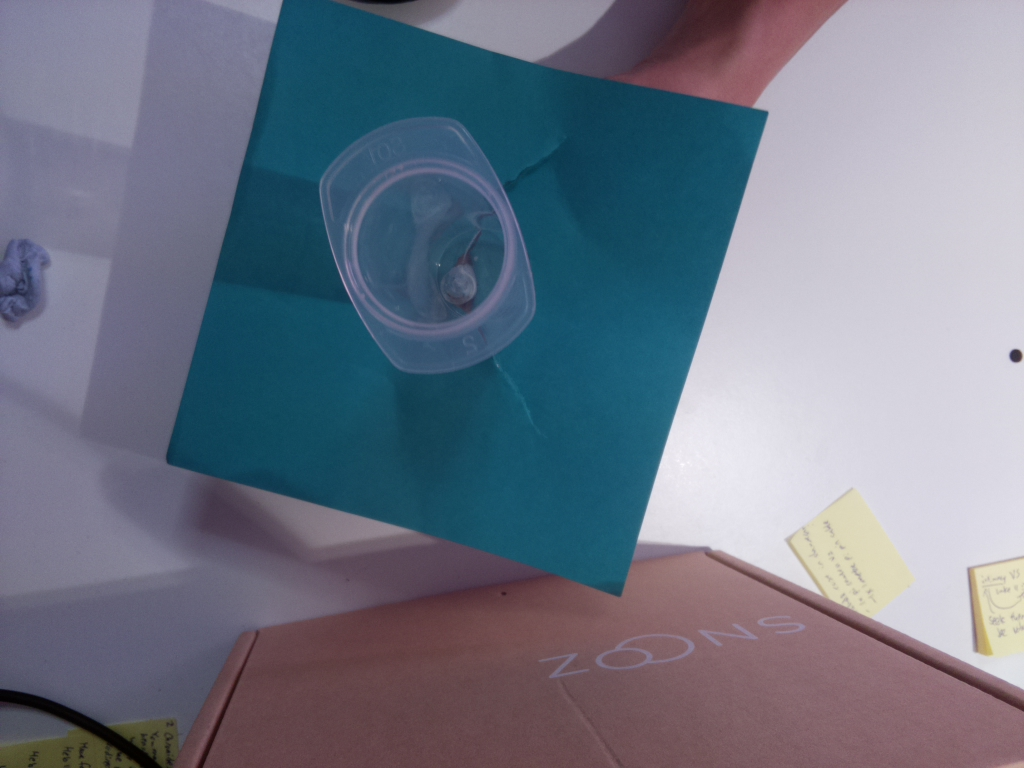clean: (318, 116, 536, 374)
